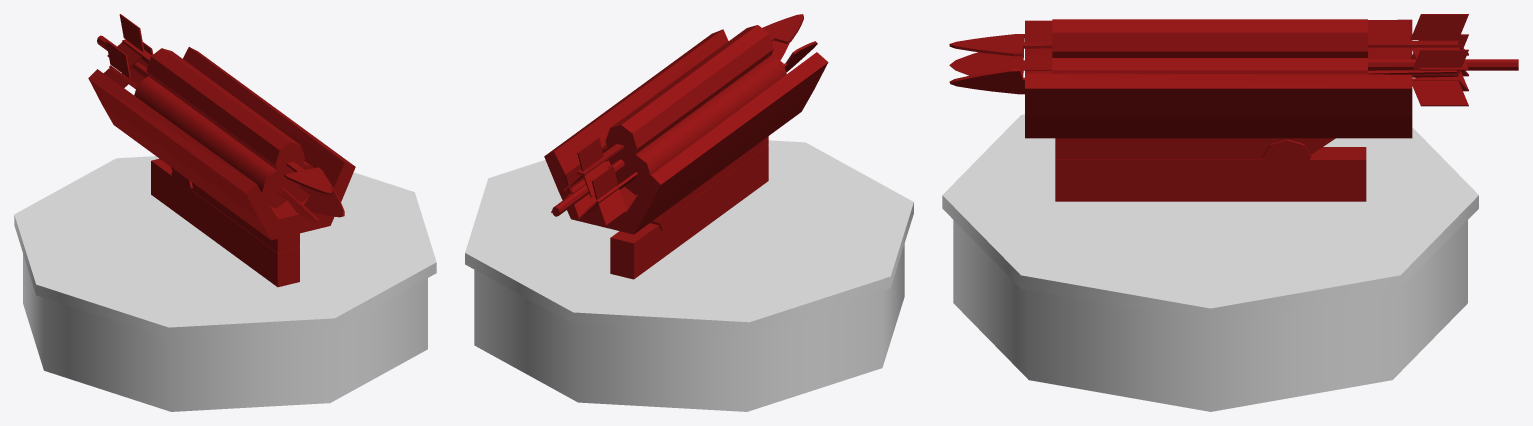
The model's file is darkness_tower_rocket1.FBX.
3 renders of one model, left to right at view 1: azimuth 30°, elevation 25°; view 2: azimuth 150°, elevation 25°; view 3: azimuth 270°, elevation 25°, orthographic. The views are drawn at different scales.
Visible parts, largest first — view 1: platform_rocket1, rocket1; view 2: platform_rocket1, rocket1; view 3: platform_rocket1, rocket1.
Part boxes in pixels (box(x1,y1,x2,y2)): platform_rocket1: box(14, 156, 436, 411); rocket1: box(88, 14, 355, 287); platform_rocket1: box(465, 140, 913, 411); rocket1: box(544, 14, 828, 279); platform_rocket1: box(942, 114, 1478, 411); rocket1: box(949, 14, 1518, 201).
Bounding box in the file's own units: 9 × 5.34 × 9.66.
